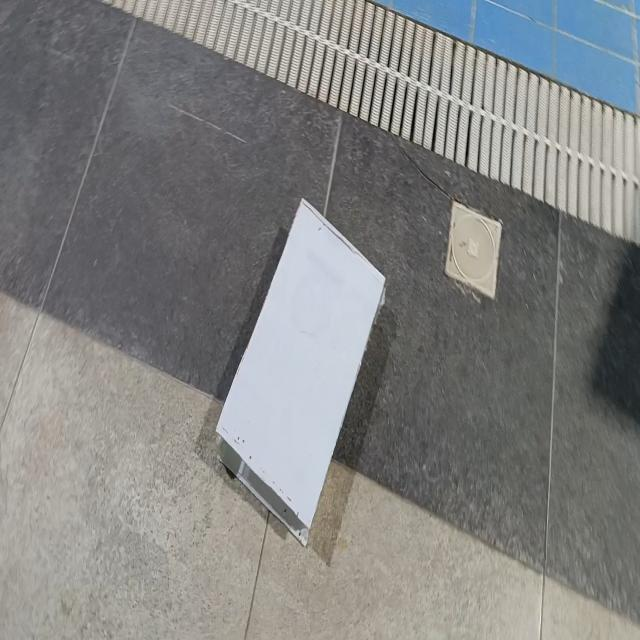Cuboid: (214, 195, 386, 546)
